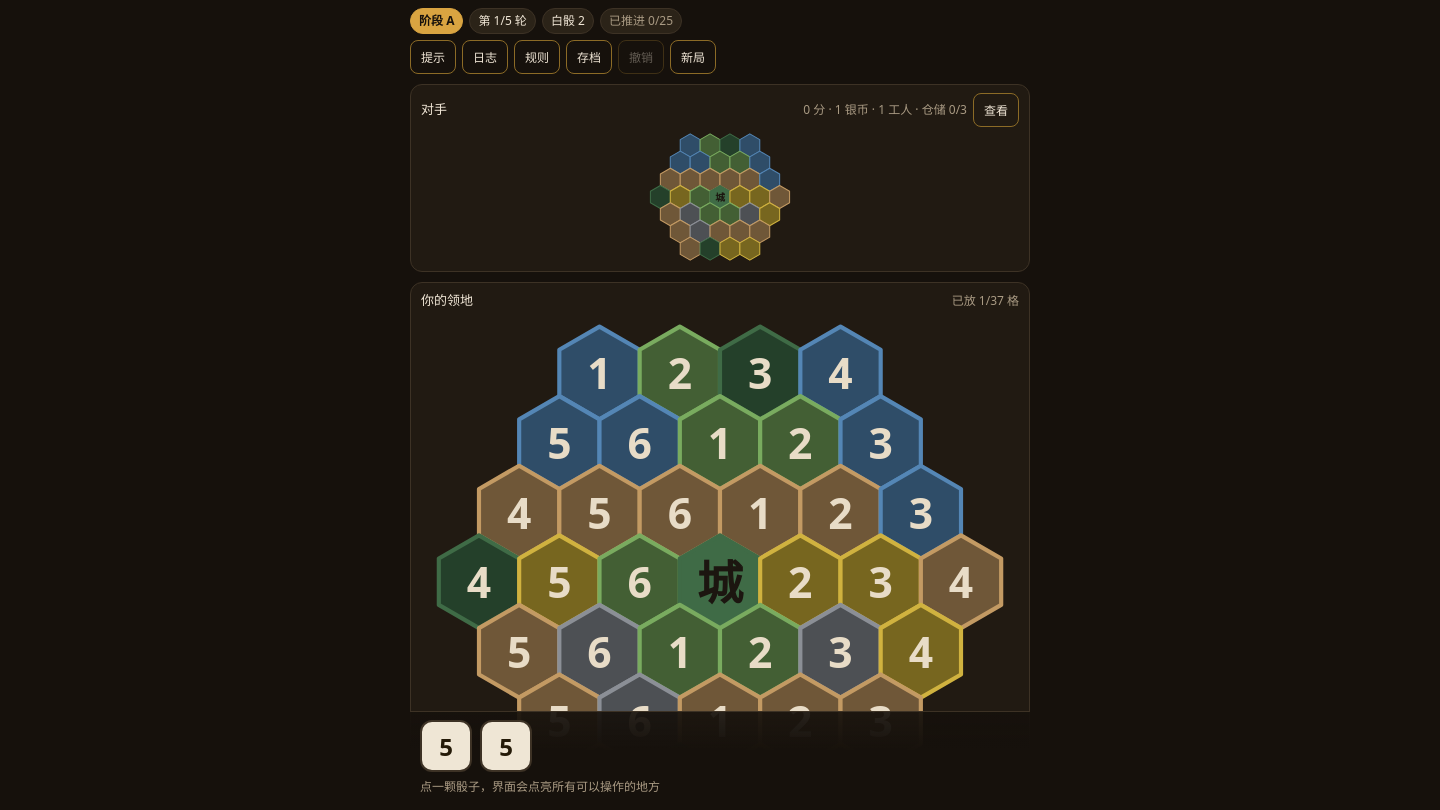
it: 面板能打开且不崩（事件处理器覆盖） › 存档面板的「清除本机存档」不会抛错
The width and height of the screenshot is (1440, 810).
Step 1. Click the button "存档" → (589, 57), box [566,40,612,74]
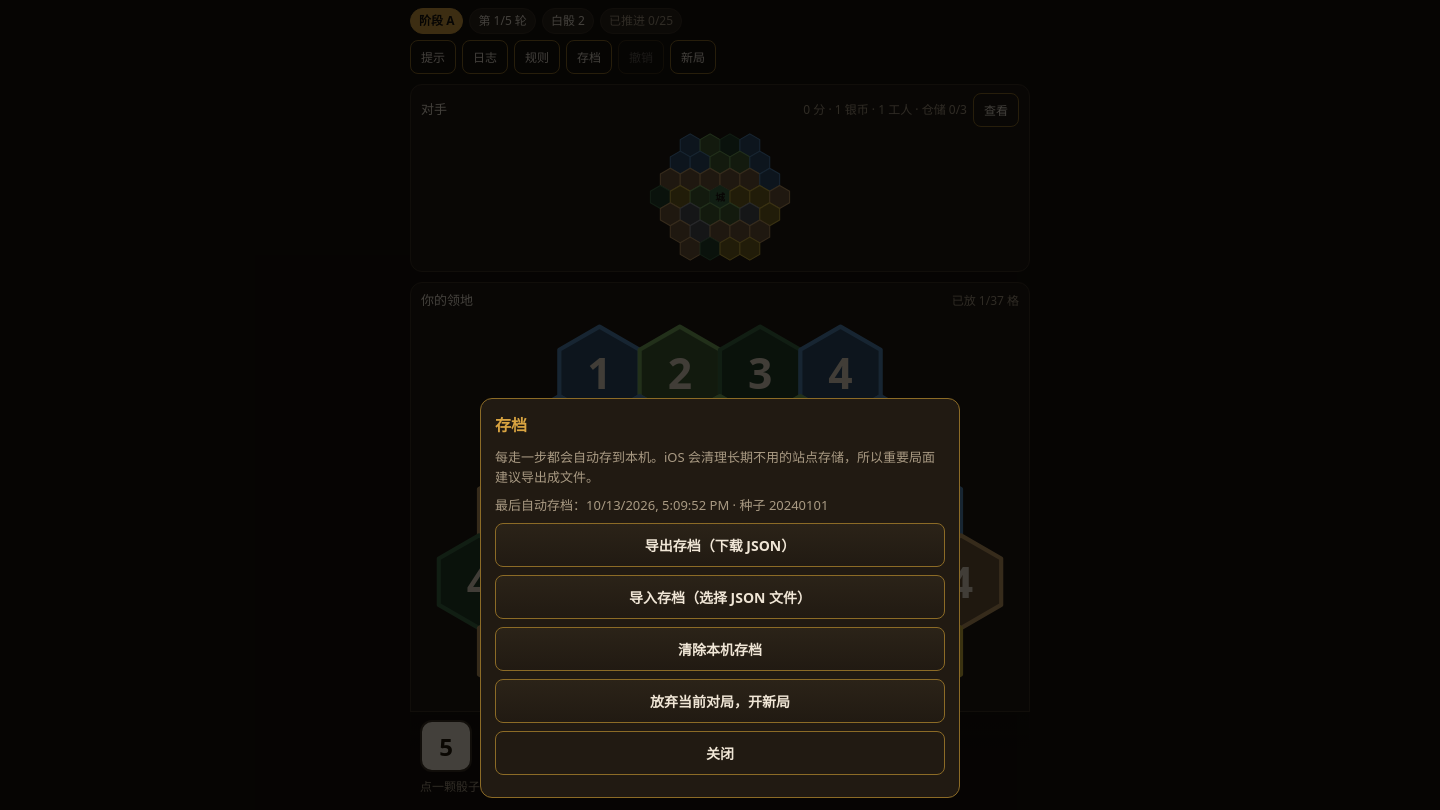
Expected: the button "清除本机存档" is shown
Step 2. Click the button "清除本机存档" → (720, 649), box [495,627,945,671]
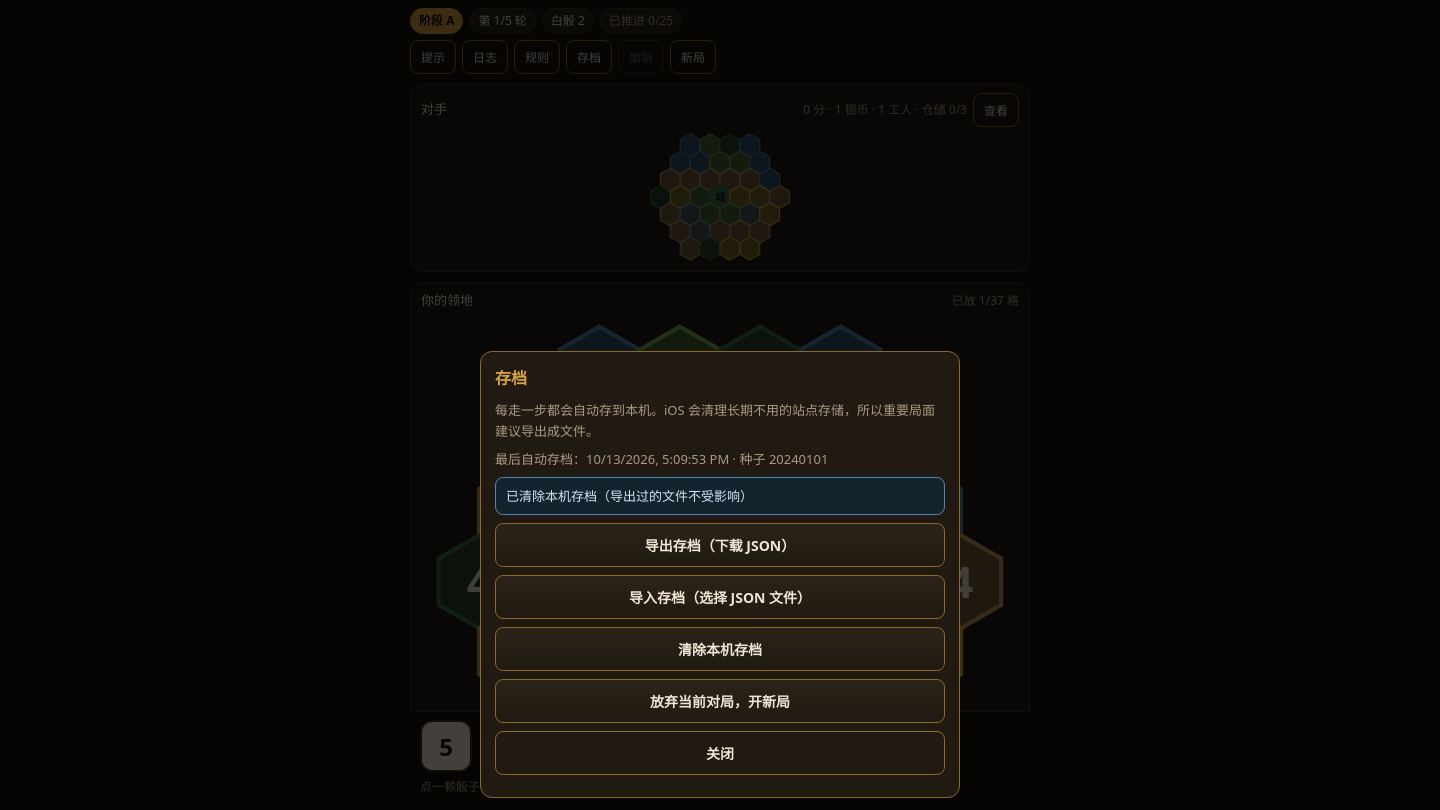
Expected: the text "已清除本机存档（导出过的文件不受影响）" is shown, [495,477,945,515]
